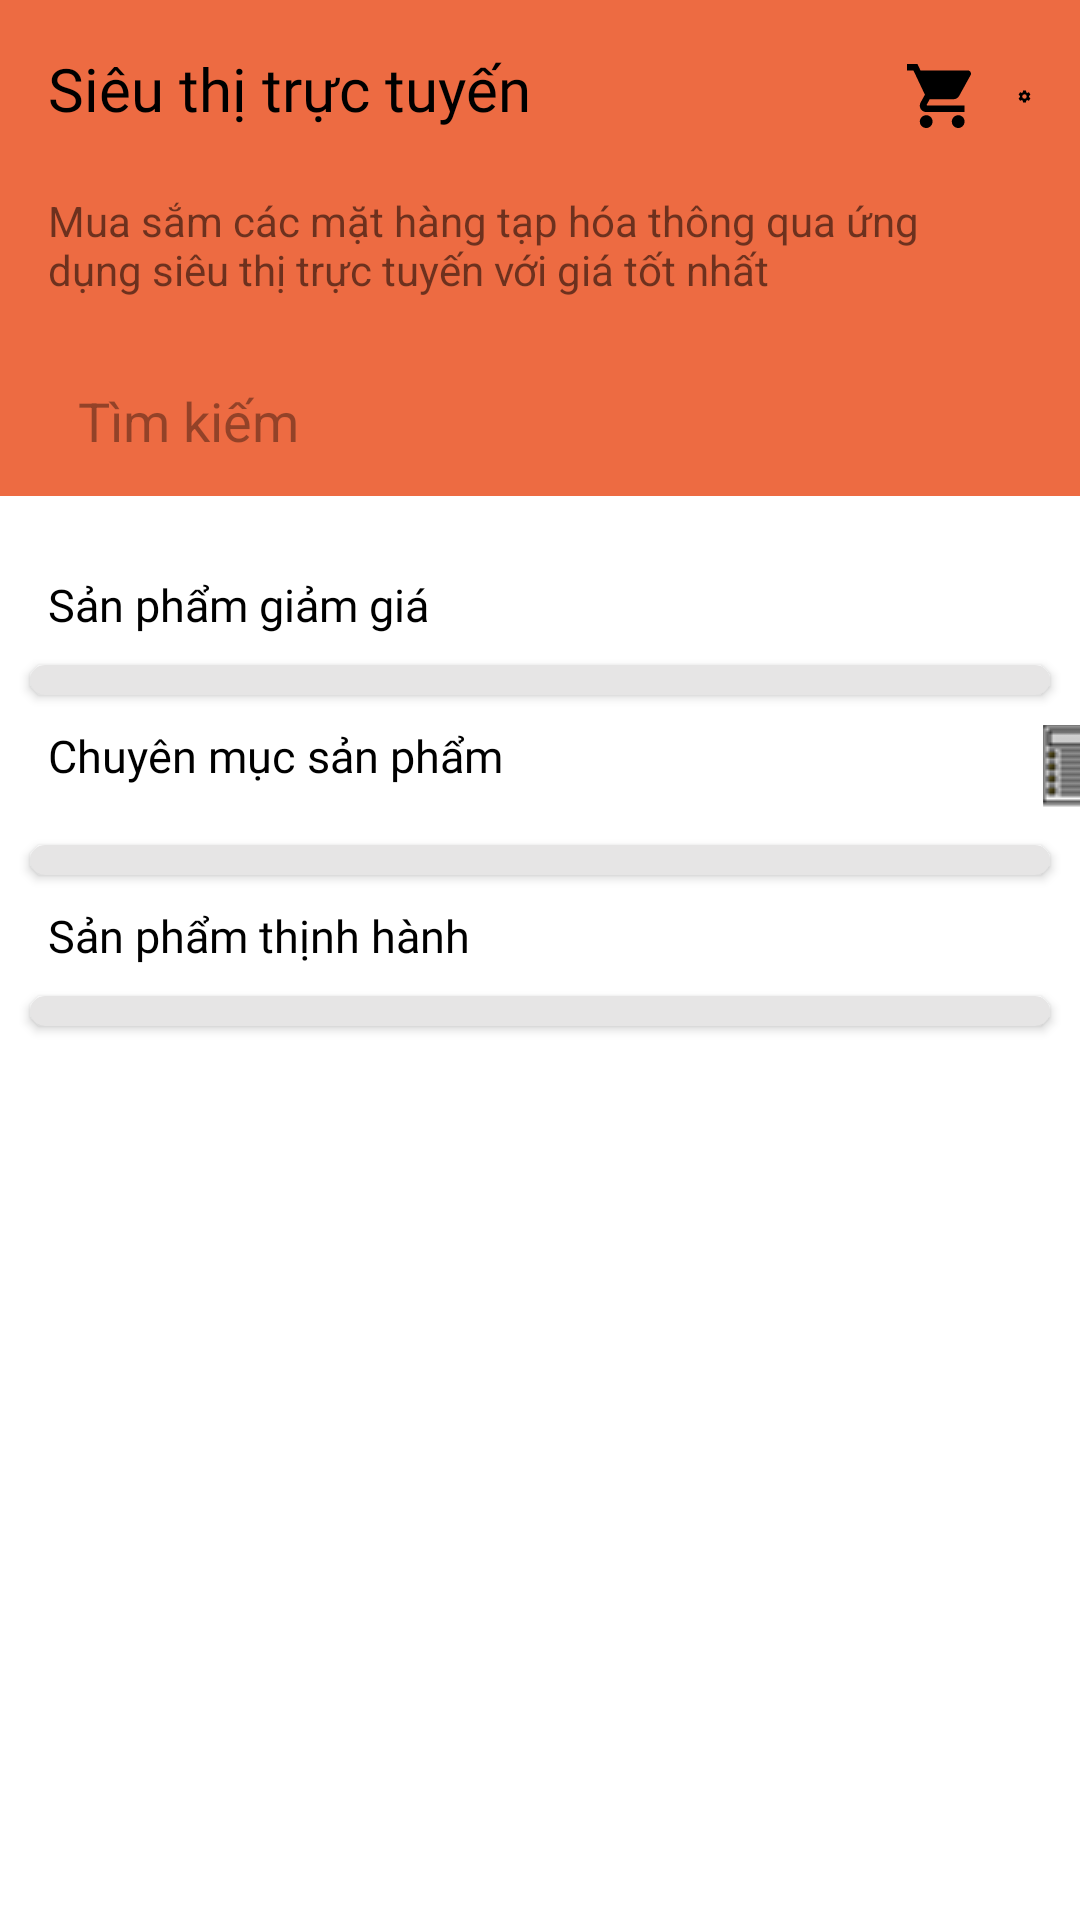

Icon click points for this 1080px x 1920px phone screenshot, format (x=x, y=y):
cart: (x=939, y=96)
